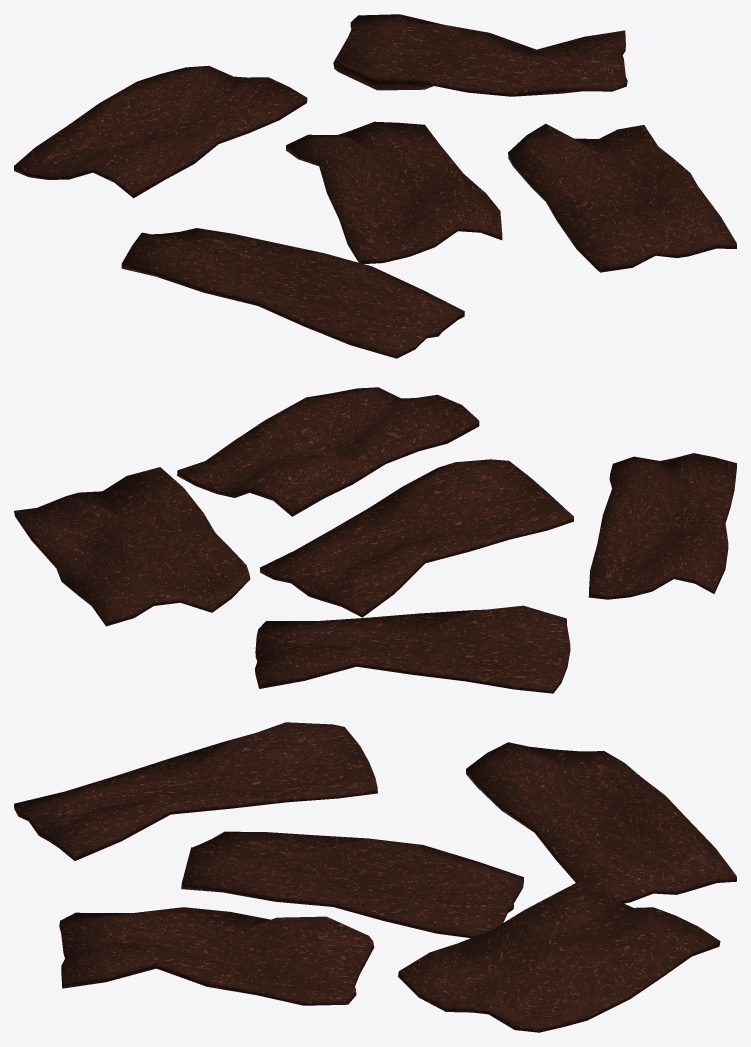
The model's file is yakiniku_s3.glb.
The picture shows the model from 3 angles, top to bottom: view 1: azimuth 30°, elevation 25°; view 2: azimuth 150°, elevation 25°; view 3: azimuth 270°, elevation 25°; orthographic projection. The views are drawn at different scales.
Visible parts, largest first — view 1: yakiniku.001; view 2: yakiniku.001; view 3: yakiniku.001.
Boxes of the visible parts, <box> form: yakiniku.001: <box>14,14,736,358</box>; yakiniku.001: <box>14,387,736,693</box>; yakiniku.001: <box>14,722,736,1032</box>.
Size of the model in its own units: 0.1801 by 0.0131 by 0.1789.
Materials: 1 (1 with a texture image).
